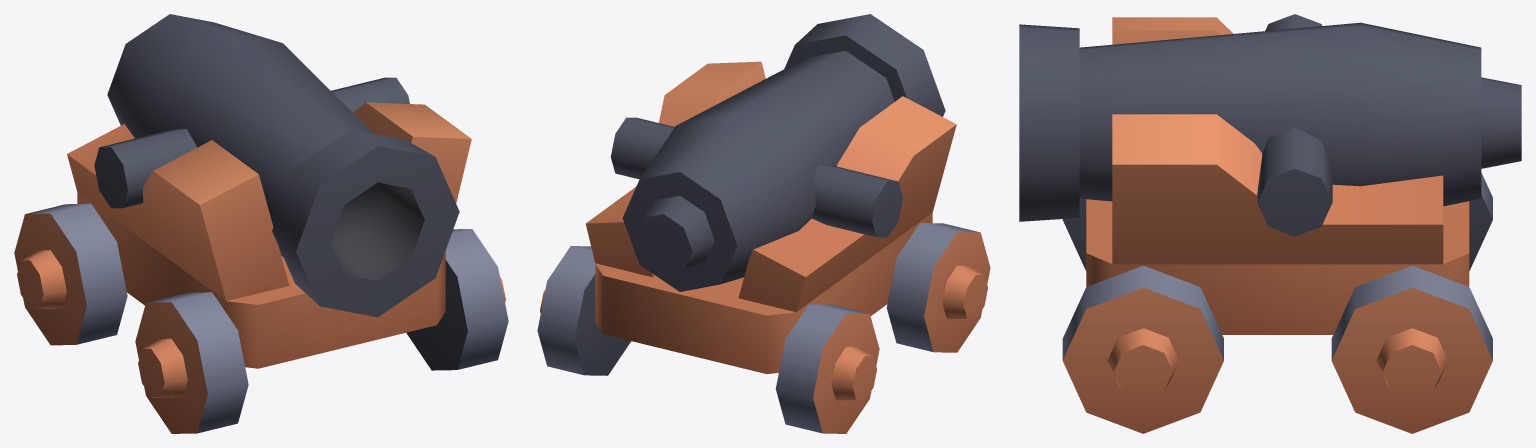
File: kenney-pirate-cannon-mobile.glb
The picture shows the model from 3 angles, left to right: view 1: azimuth 30°, elevation 25°; view 2: azimuth 150°, elevation 25°; view 3: azimuth 270°, elevation 25°; orthographic projection. The views are drawn at different scales.
Visible parts, largest first — view 1: cannon-mobile; view 2: cannon-mobile; view 3: cannon-mobile.
Boxes of the visible parts, <box> form: cannon-mobile: <box>14,14,508,433</box>; cannon-mobile: <box>537,14,990,433</box>; cannon-mobile: <box>1019,14,1521,433</box>.
Bounding box in the file's own units: 1.68 × 1.38 × 1.92.
Materials: 1 (1 with a texture image).
